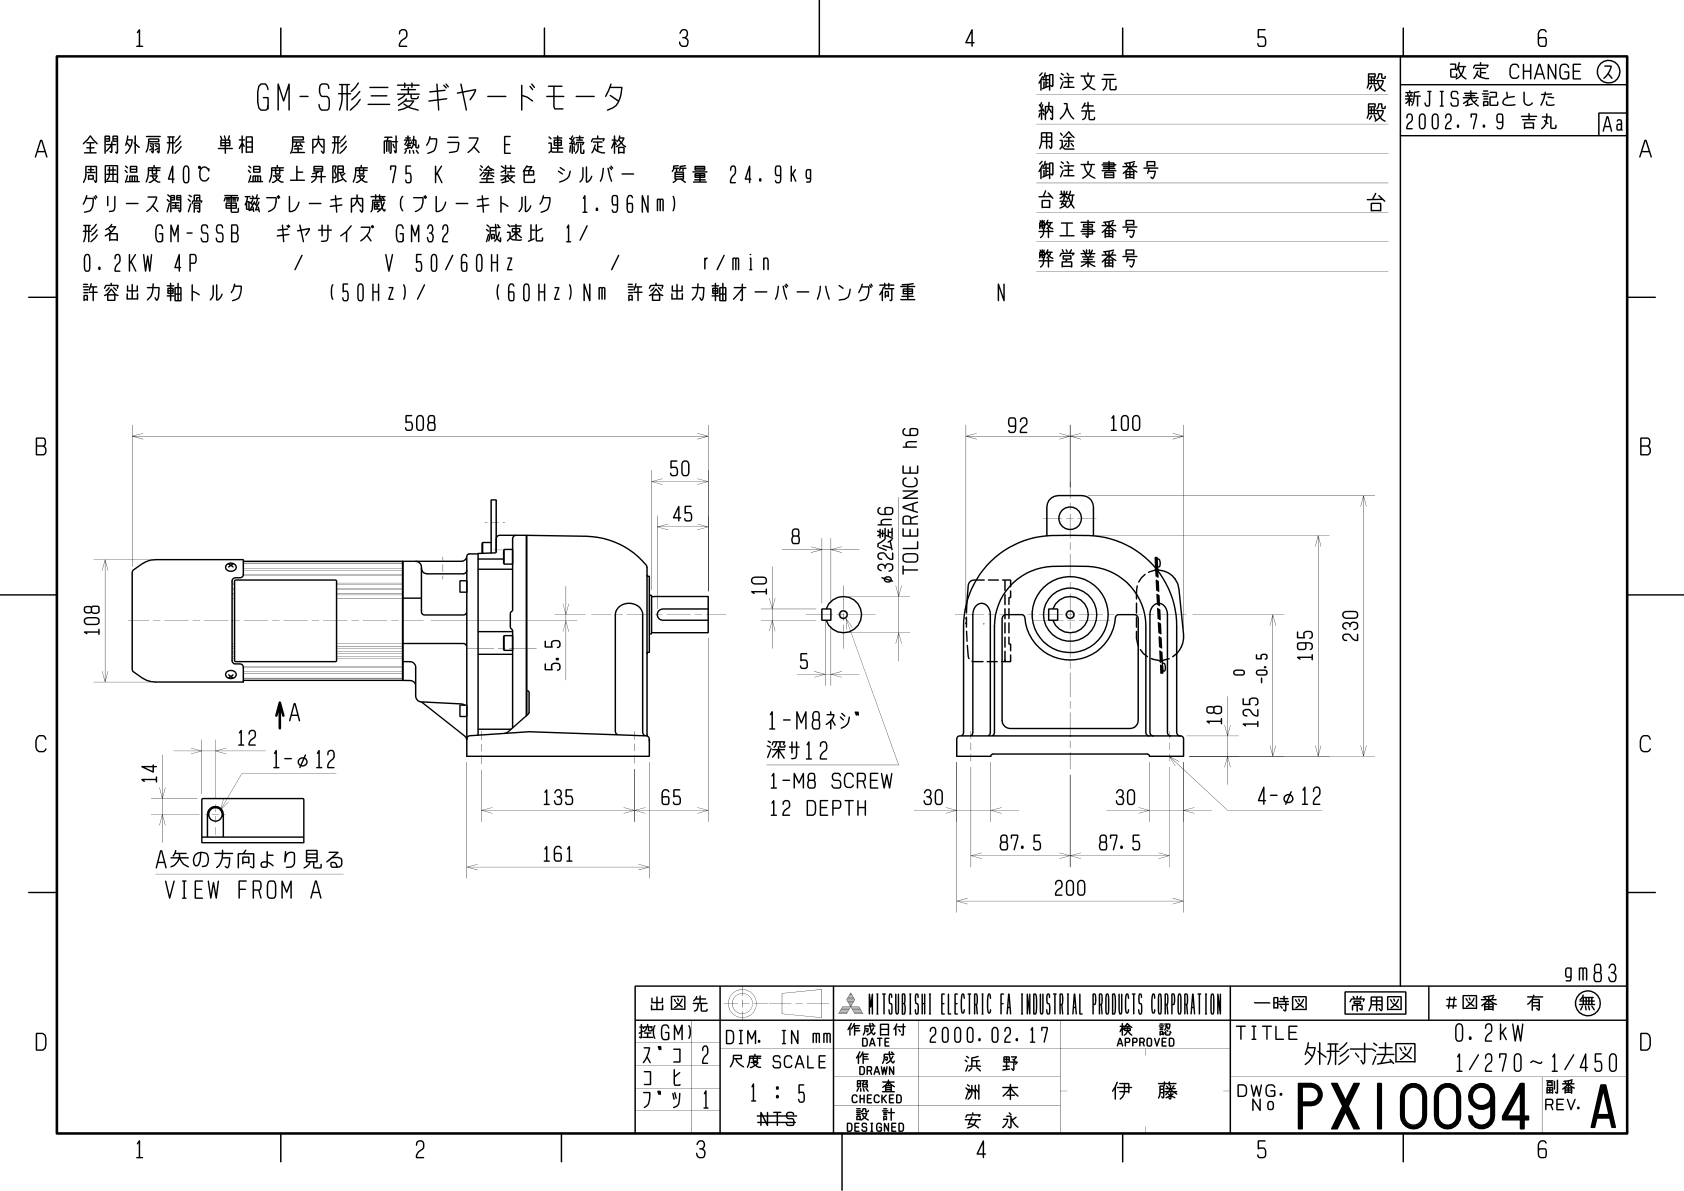GM_S_屋内＿単相_脚: (4, 6, 1684, 1191)
